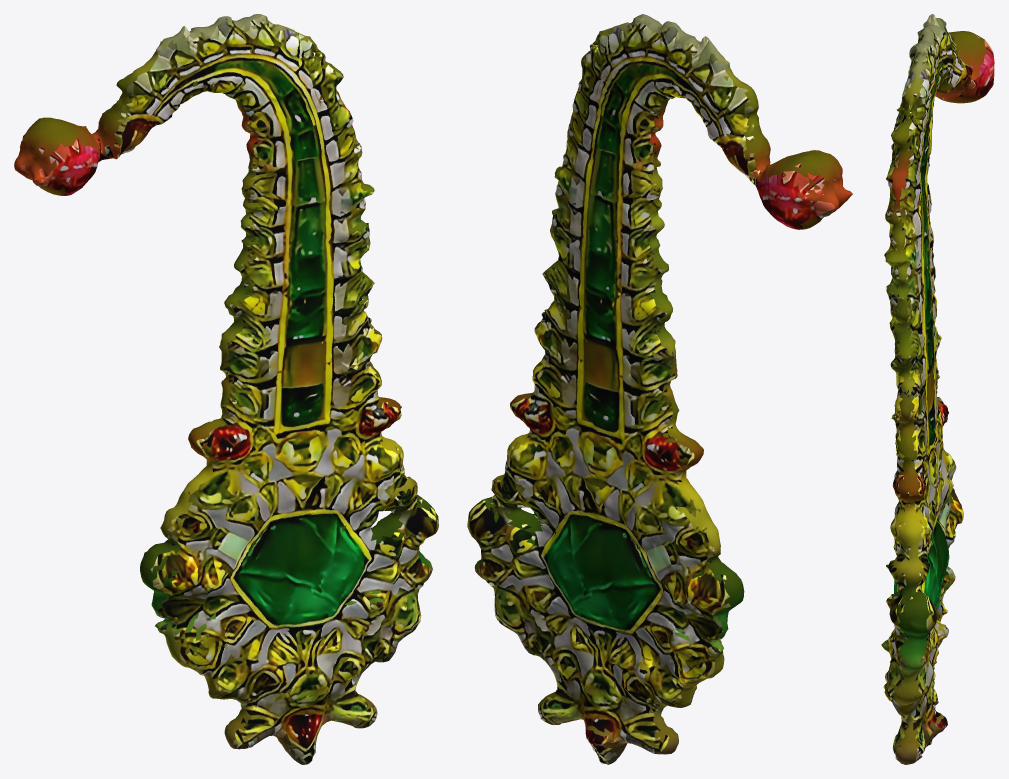
The model's file is kfl-2229.glb.
The picture shows the model from 3 angles, left to right: view 1: azimuth 30°, elevation 25°; view 2: azimuth 150°, elevation 25°; view 3: azimuth 270°, elevation 25°; orthographic projection. The views are drawn at different scales.
Parts seen in each view (by area): view 1: kfl-2229; view 2: kfl-2229; view 3: kfl-2229.
Boxes of the visible parts, x1,y1,x2,y2 form: kfl-2229: (14,14,438,764); kfl-2229: (467,14,852,764); kfl-2229: (881,14,994,764).
Bounding box in the file's own units: 0.5334 × 0.9863 × 0.1441.
4 materials, 4 textured.
